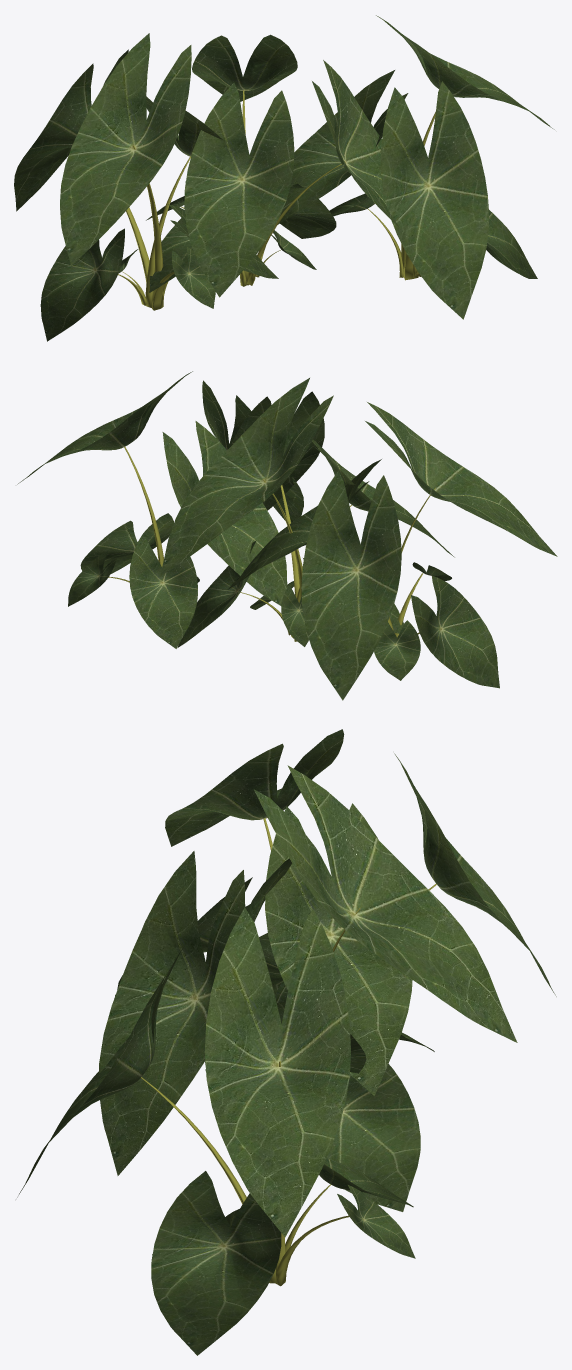
Rendered from Plant2.fbx.
3 renders of one model, top to bottom at view 1: azimuth 30°, elevation 25°; view 2: azimuth 150°, elevation 25°; view 3: azimuth 270°, elevation 25°, orthographic. The views are drawn at different scales.
Parts seen in each view (by area): view 1: Group15, Group60, Group33, Group51, Group36, Group12, Group57, Group39, Group18, Group9, Group30, Group48 (+9 smaller); view 2: Group57, Group39, Group60, Group12, Group51, Group3, Group18, Group36, Group54, Group9, Group15, Group30 (+5 smaller); view 3: Group18, Group39, Group36, Group9, Group54, Group30, Group60, Group57, Group15, Group6, Group3, Group33.
Boxes of the visible parts, x1,y1,x2,y2 form: Group15: (380, 81, 488, 319); Group60: (60, 33, 191, 265); Group33: (184, 82, 294, 297); Group51: (40, 228, 124, 341); Group36: (312, 60, 399, 227); Group12: (278, 70, 408, 224); Group57: (14, 49, 128, 211); Group39: (192, 34, 297, 101); Group18: (376, 15, 554, 129); Group9: (486, 210, 537, 278); Group30: (280, 184, 336, 238); Group48: (172, 247, 215, 308); Group57: (301, 470, 401, 700); Group39: (160, 378, 333, 576); Group60: (365, 402, 557, 556); Group12: (162, 421, 287, 605); Group51: (411, 575, 499, 688); Group3: (129, 535, 197, 648); Group18: (17, 371, 192, 484); Group36: (230, 391, 324, 510); Group54: (227, 459, 381, 589); Group9: (80, 513, 173, 573); Group15: (202, 380, 303, 522); Group30: (177, 540, 259, 647); Group18: (204, 907, 350, 1237); Group39: (254, 765, 517, 1042); Group36: (99, 851, 245, 1175); Group9: (151, 1171, 281, 1355); Group54: (265, 803, 412, 1096); Group30: (327, 1035, 420, 1211); Group60: (165, 729, 344, 846); Group57: (394, 753, 556, 996); Group15: (17, 943, 186, 1197); Group6: (337, 1185, 415, 1258); Group3: (319, 1158, 413, 1207); Group33: (114, 858, 291, 998).
Size of the model in its own units: 59.98 by 31.45 by 38.73.
